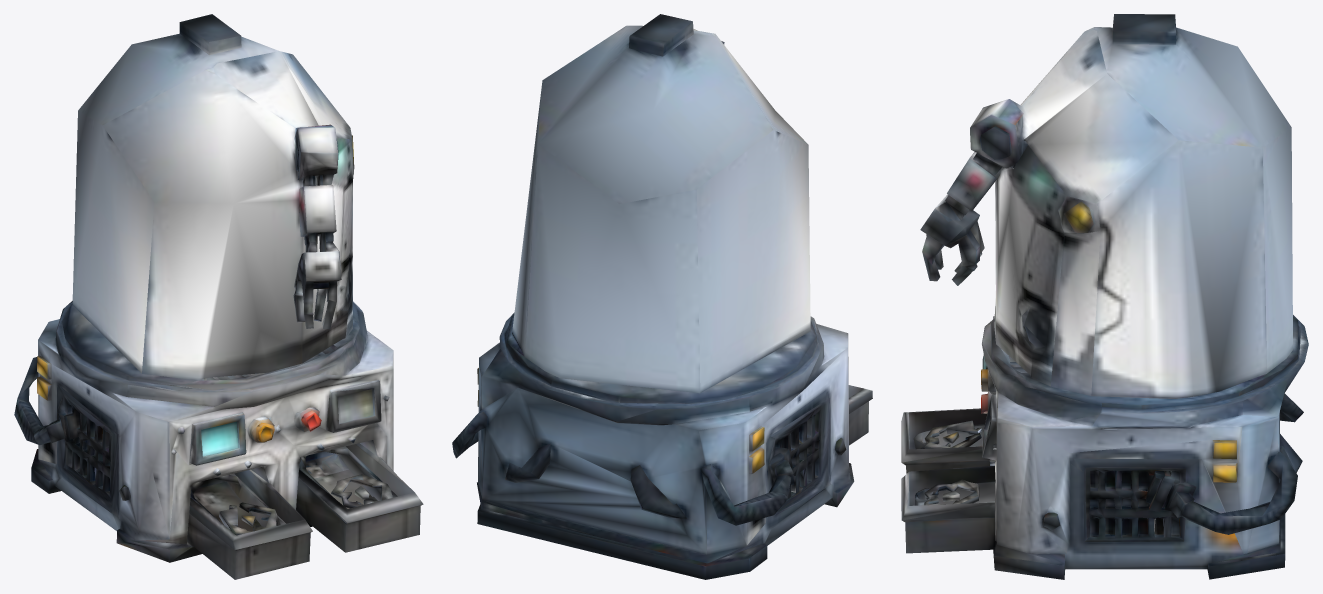
File: fenjieji-3.glb
The picture shows the model from 3 angles, left to right: view 1: azimuth 30°, elevation 25°; view 2: azimuth 150°, elevation 25°; view 3: azimuth 270°, elevation 25°; orthographic projection. The views are drawn at different scales.
Visible parts, largest first — view 1: node_0; view 2: node_0; view 3: node_0.
Boxes of the visible parts, x1=… form: node_0: x1=14, y1=14, x2=423, y2=579; node_0: x1=452, y1=14, x2=872, y2=579; node_0: x1=901, y1=14, x2=1308, y2=579.
Size of the model in its own units: 0.6296 by 0.923 by 0.6986.
1 material, 1 textured.
